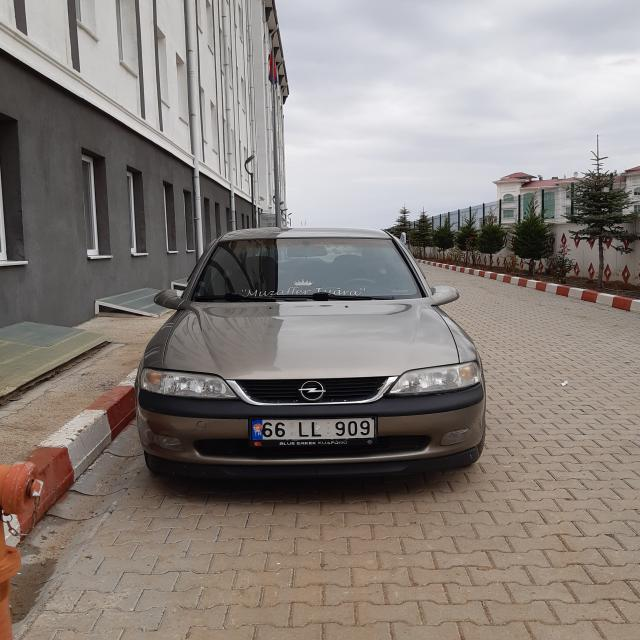license_plate: (250, 418, 379, 441)
